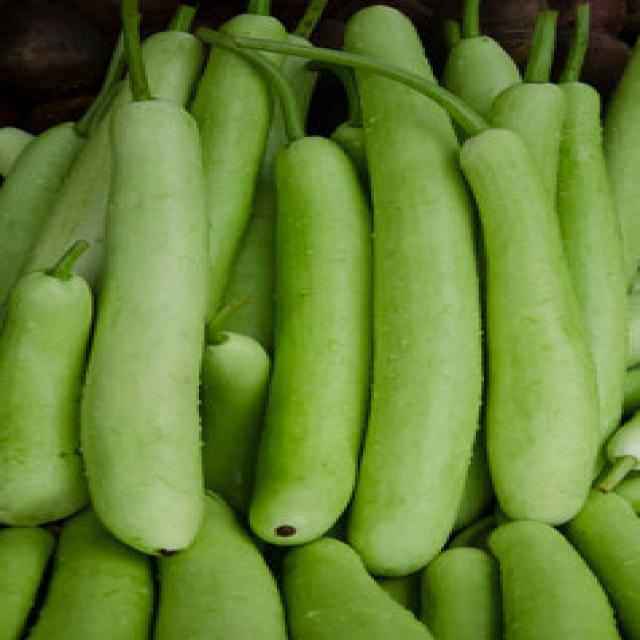Bottle Gourd: (344, 5, 459, 542), (462, 128, 600, 520), (100, 100, 202, 536), (276, 136, 354, 536), (192, 7, 264, 297), (10, 271, 86, 519), (153, 498, 272, 640), (473, 521, 613, 640), (44, 524, 163, 640), (286, 544, 401, 640)
